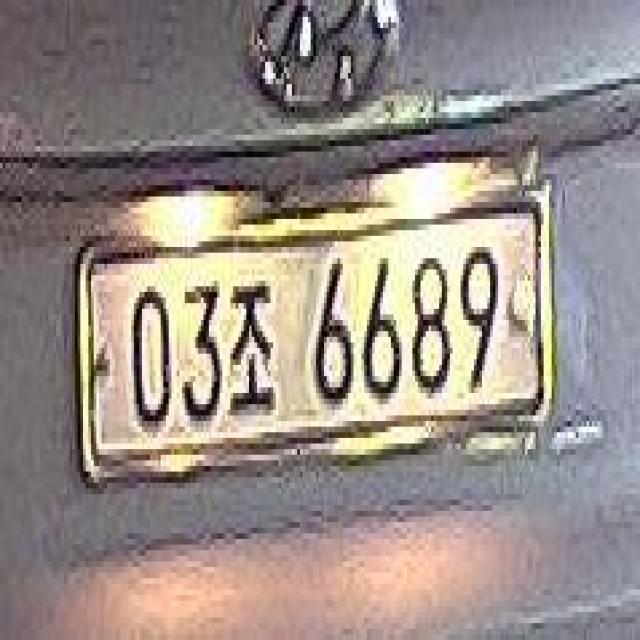illegal_plate: (78, 195, 546, 488)
